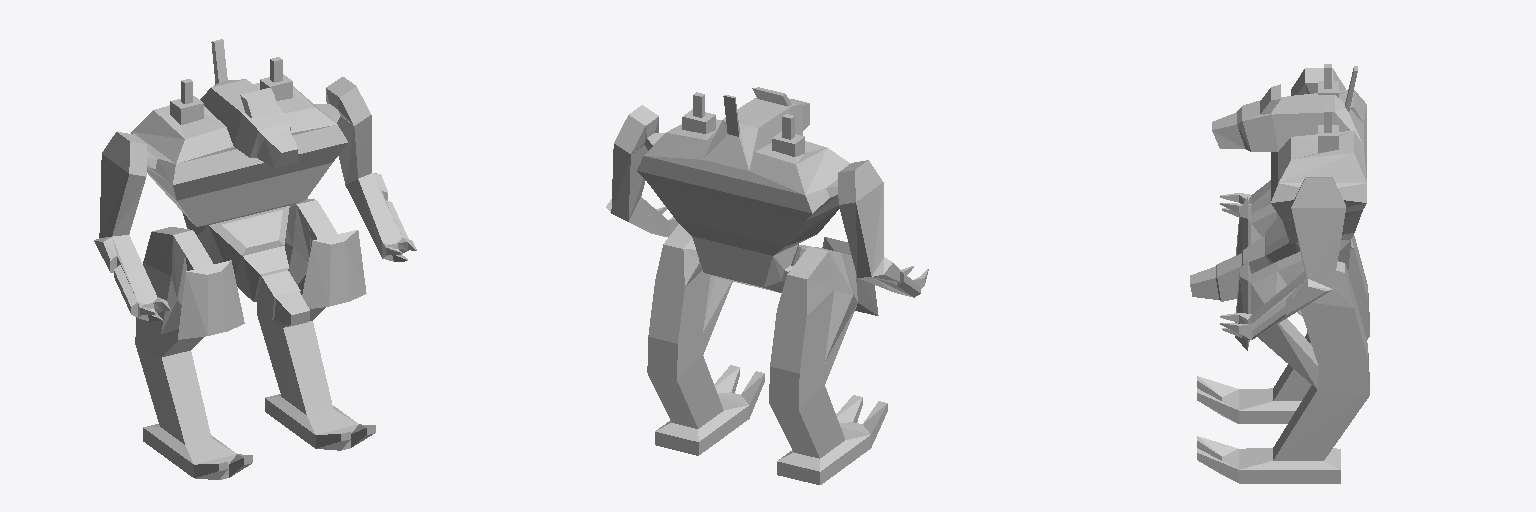
Rendered from District9Mech.obj.
3 renders of one model, left to right at view 1: azimuth 30°, elevation 25°; view 2: azimuth 150°, elevation 25°; view 3: azimuth 270°, elevation 25°, orthographic.
Parts seen in each view (by area): view 1: District9Mech; view 2: District9Mech; view 3: District9Mech.
Part boxes in pixels (bbox=[...]): District9Mech: bbox=[94, 39, 416, 479]; District9Mech: bbox=[606, 87, 928, 484]; District9Mech: bbox=[1190, 64, 1369, 483].
Bounding box in the file's own units: 14.61 × 18.81 × 8.19.